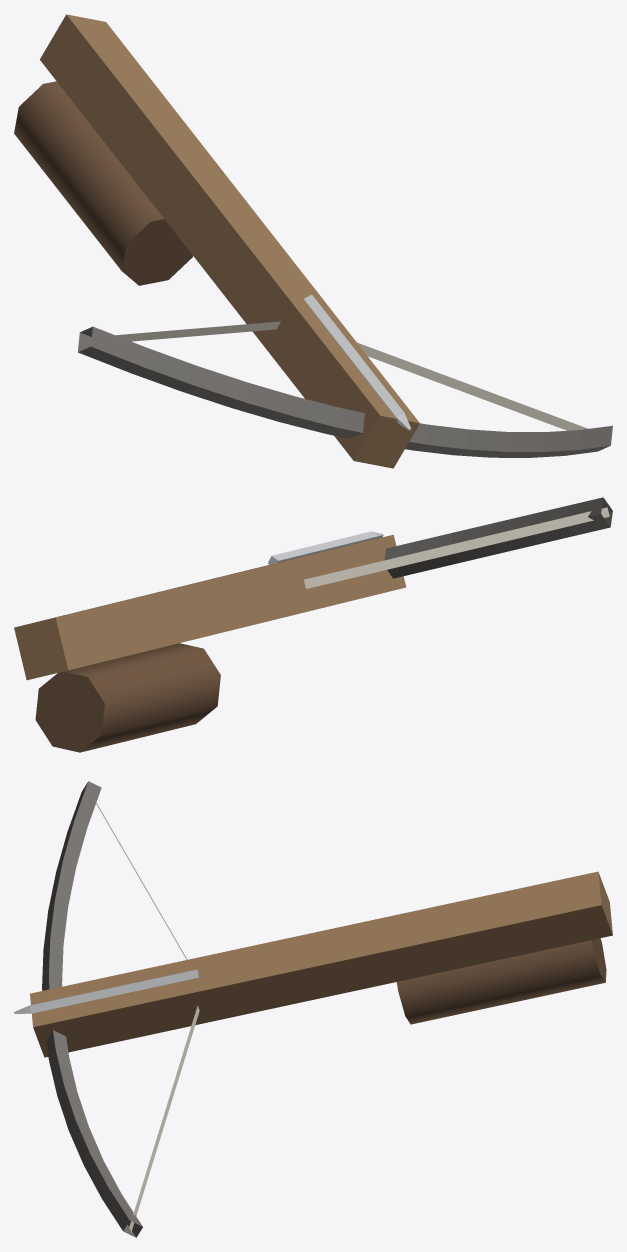
The model's file is wpn_handxbow.glb.
The picture shows the model from 3 angles, top to bottom: view 1: azimuth 30°, elevation 25°; view 2: azimuth 150°, elevation 25°; view 3: azimuth 270°, elevation 25°; orthographic projection. The views are drawn at different scales.
Parts seen in each view (by area): view 1: wpn_handxbow; view 2: wpn_handxbow; view 3: wpn_handxbow.
Part boxes in pixels (box(x1,y1,x2,y2)): wpn_handxbow: box(14, 14, 612, 468); wpn_handxbow: box(14, 497, 612, 752); wpn_handxbow: box(14, 781, 612, 1237).
Size of the model in its own units: 0.1903 by 0.099 by 0.2083.
